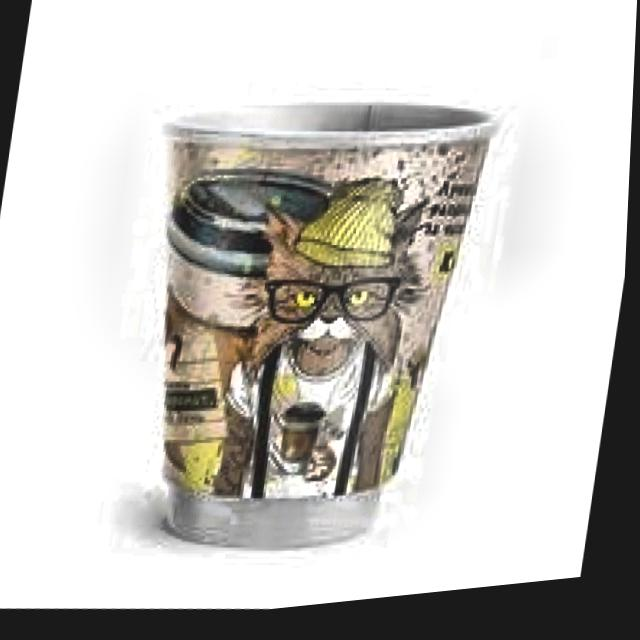Cup: (90, 70, 497, 605)
